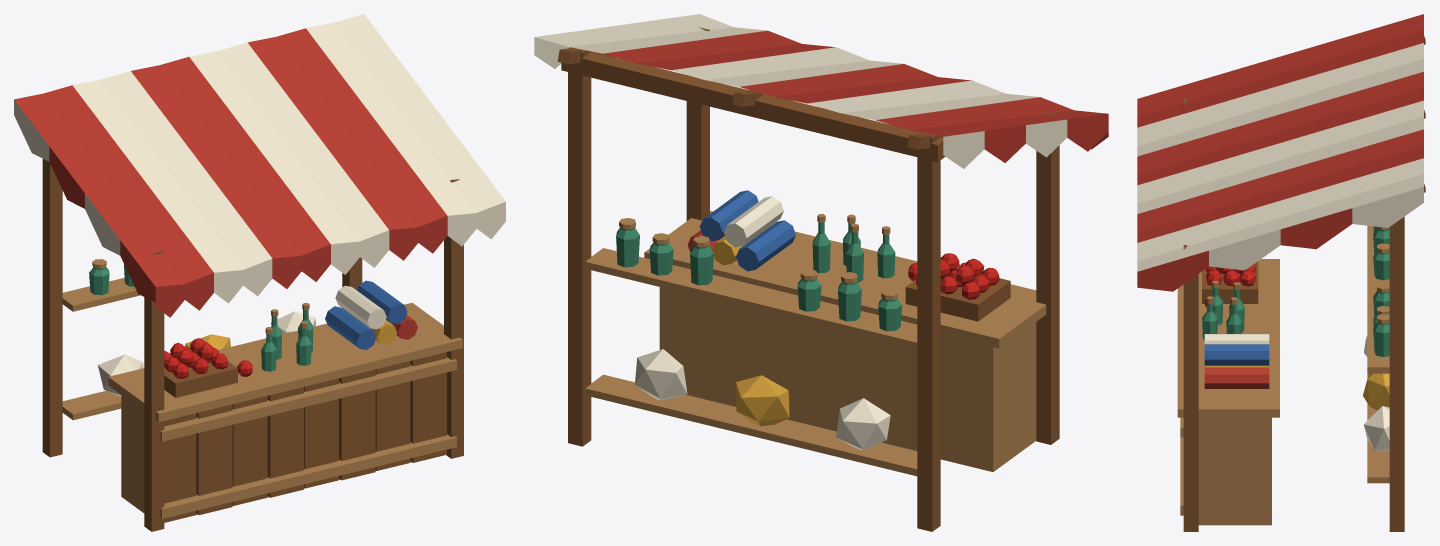
The model's file is stall.glb.
3 renders of one model, left to right at view 1: azimuth 30°, elevation 25°; view 2: azimuth 150°, elevation 25°; view 3: azimuth 270°, elevation 25°, orthographic. The views are drawn at different scales.
Visible parts, largest first — view 1: stall; view 2: stall; view 3: stall.
Part boxes in pixels (left/top/right/bottom): stall: left=14, top=14, right=505, bottom=531; stall: left=534, top=14, right=1108, bottom=531; stall: left=1137, top=14, right=1425, bottom=531.
Bounding box in the file's own units: 3.04 × 2.91 × 2.14.
